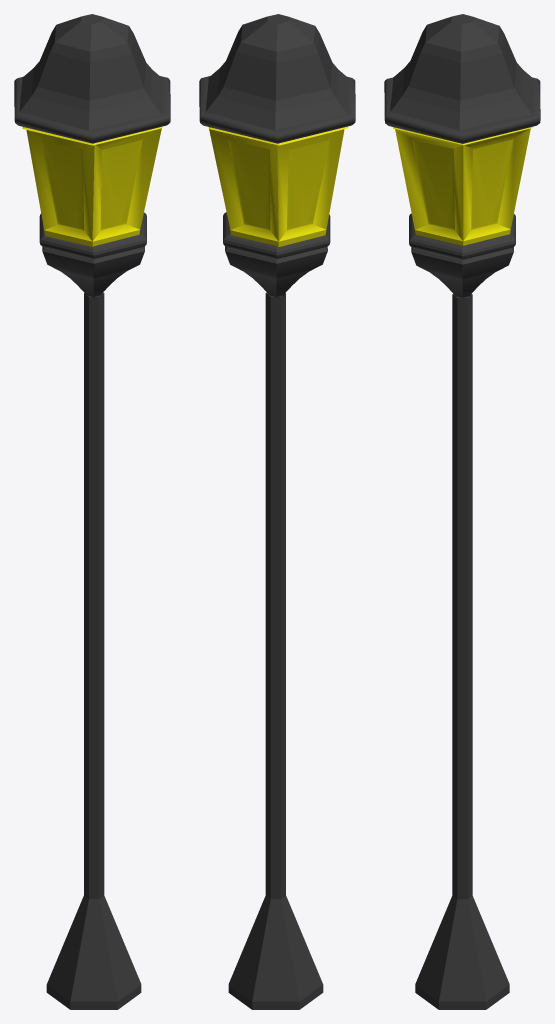
The model's file is Lamp_with_Lighting.fbx.
3 renders of one model, left to right at view 1: azimuth 30°, elevation 25°; view 2: azimuth 150°, elevation 25°; view 3: azimuth 270°, elevation 25°, orthographic.
Visible parts, largest first — view 1: Cylinder, Hat, Lantern_Housing, Top_Rim, Bottom_Body, Bottom_Rim; view 2: Cylinder, Hat, Lantern_Housing, Top_Rim, Bottom_Body, Bottom_Rim; view 3: Cylinder, Hat, Lantern_Housing, Top_Rim, Bottom_Body, Bottom_Rim.
Boxes of the visible parts, x1,y1,x2,y2 form: Cylinder: [46, 292, 141, 1009]; Hat: [19, 14, 164, 130]; Lantern_Housing: [22, 126, 162, 246]; Top_Rim: [14, 76, 170, 143]; Bottom_Body: [42, 246, 144, 297]; Bottom_Rim: [39, 212, 146, 258]; Cylinder: [228, 292, 323, 1009]; Hat: [205, 14, 350, 130]; Lantern_Housing: [208, 126, 348, 246]; Top_Rim: [199, 76, 355, 143]; Bottom_Body: [225, 246, 327, 297]; Bottom_Rim: [223, 212, 330, 258]; Cylinder: [415, 293, 509, 1009]; Hat: [390, 14, 534, 130]; Lantern_Housing: [393, 127, 532, 245]; Top_Rim: [384, 77, 540, 143]; Bottom_Body: [411, 247, 513, 297]; Bottom_Rim: [409, 213, 515, 259].
Bounding box in the file's own units: 338 × 2016 × 293.
